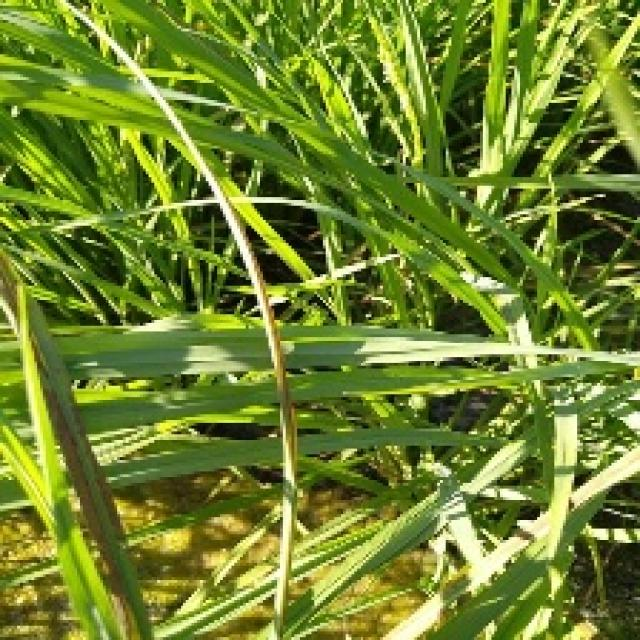Unhealthy: (35, 386, 115, 570), (69, 386, 130, 544)
